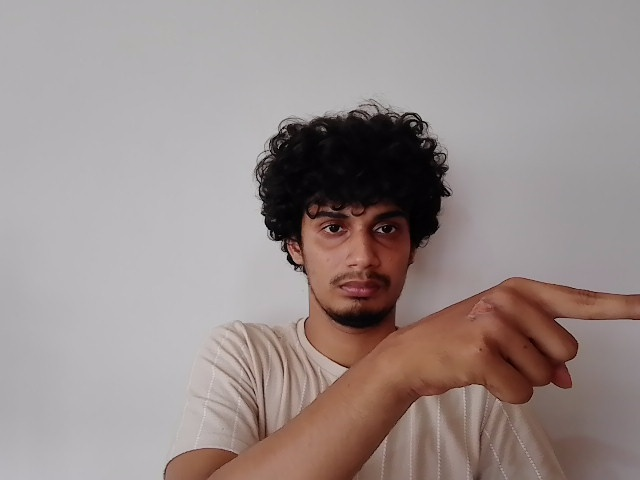you: (399, 263, 640, 394)
